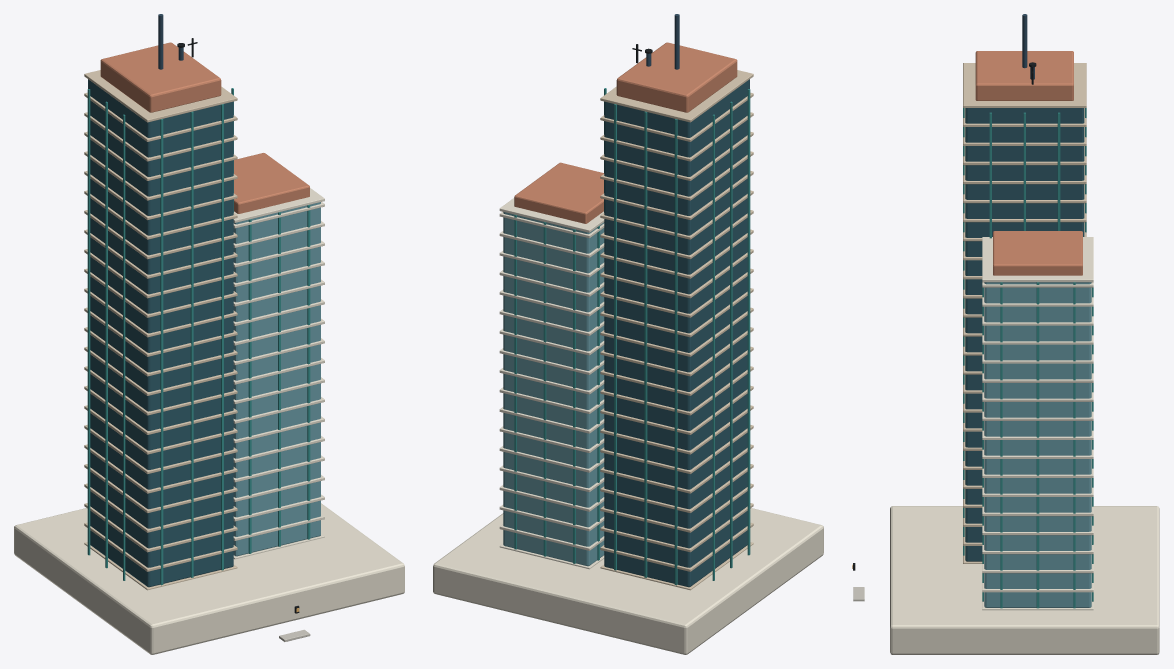
Rendered from RES_TOWER_4x4_003.glb.
The picture shows the model from 3 angles, left to right: view 1: azimuth 30°, elevation 25°; view 2: azimuth 150°, elevation 25°; view 3: azimuth 270°, elevation 25°; orthographic projection. The views are drawn at different scales.
Visible parts, largest first — view 1: RES_TOWER_4x4_003_Visual; view 2: RES_TOWER_4x4_003_Visual; view 3: RES_TOWER_4x4_003_Visual.
Boxes of the visible parts, x1,y1,x2,y2 form: RES_TOWER_4x4_003_Visual: (14,14,404,654); RES_TOWER_4x4_003_Visual: (433,14,823,654); RES_TOWER_4x4_003_Visual: (852,14,1159,654).
Size of what is drawn, in the model's own units: 6.55 by 14.05 by 7.02.
